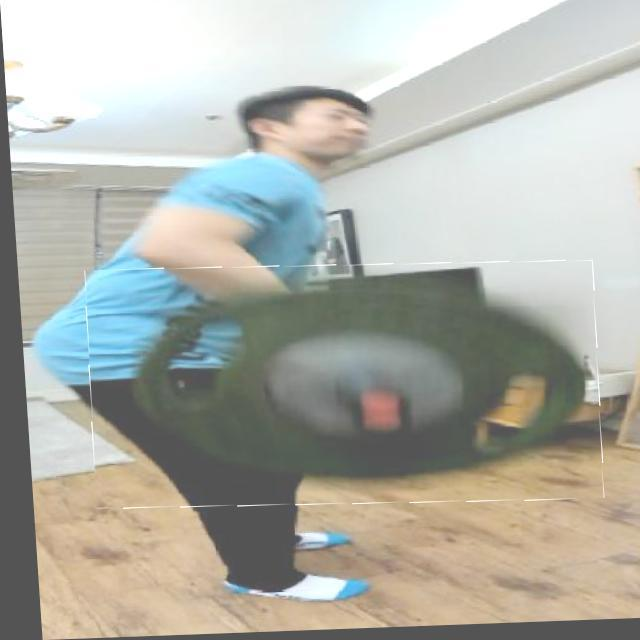barbell: (79, 259, 601, 516)
